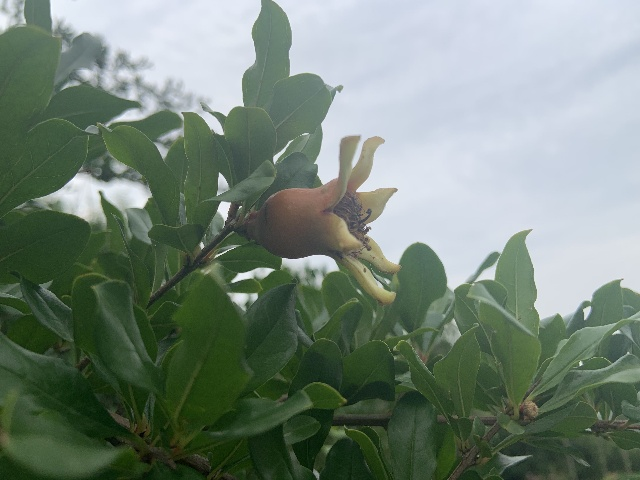early-fruit: (250, 133, 401, 304)
